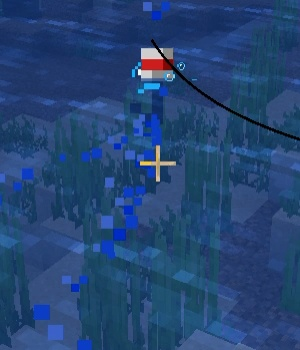up: (132, 40, 178, 132)
